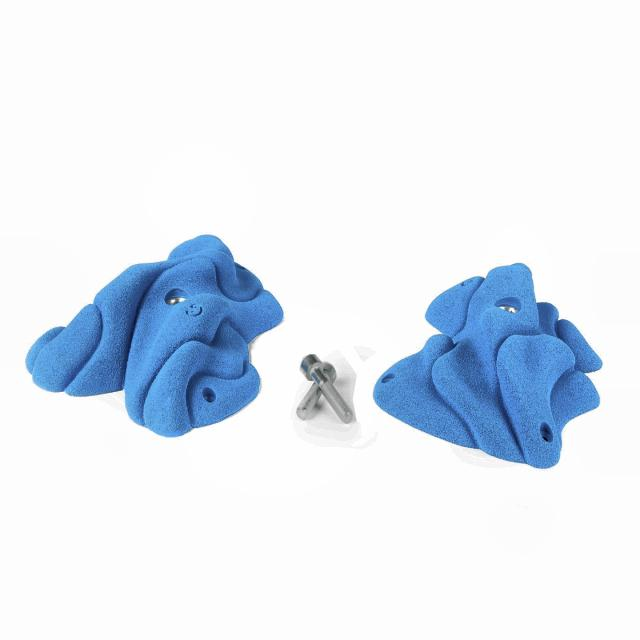Hold: (371, 262, 607, 472), (36, 230, 278, 432)
